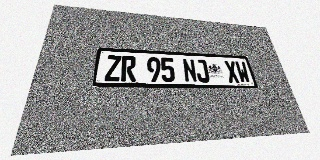5: (160, 57, 176, 82)
9: (147, 57, 162, 82)
J: (194, 59, 210, 83)
N: (182, 58, 198, 82)
R: (121, 56, 136, 82)
W: (234, 61, 251, 83)
X: (224, 60, 240, 83)
Z: (104, 55, 121, 81)
